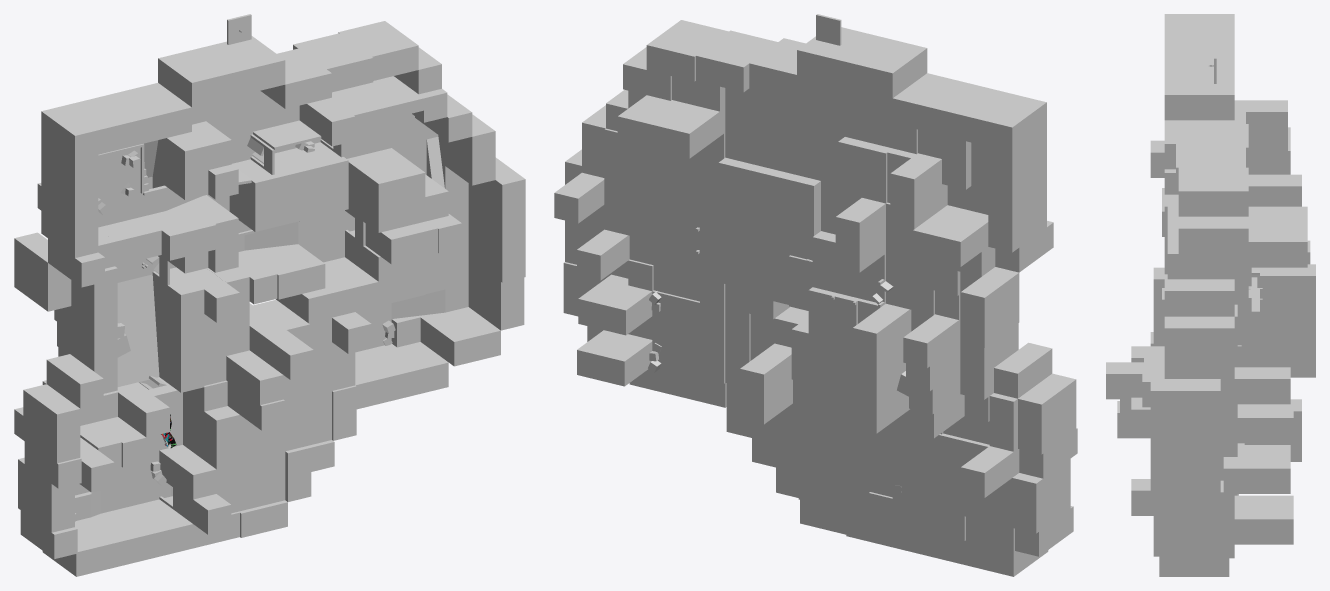
File: dust2cyberiav1.glb
The picture shows the model from 3 angles, left to right: view 1: azimuth 30°, elevation 25°; view 2: azimuth 150°, elevation 25°; view 3: azimuth 270°, elevation 25°; orthographic projection. The views are drawn at different scales.
Visible parts, largest first — view 1: Cube.856, Cube.1305, Cube.1222, Cube.1236, Cube.1221, Cube.1242, Cube.1304, Cube.1048, Cube.1105, Cube.1037, Cube.1163, Cube.954 (+110 smaller); view 2: Cube.1141, Cube.1242, Cube.1222, Cube.1221, Cube.1236, Cube.905, Cube.862, Cube.1223, Cube.1204, Cube.1139, Cube.1166, Cube.1026 (+80 smaller); view 3: Cube.1039, Cube.1040, Cube.1176, Cube.1226, Cube.1227, Cube.1234, Cube.1050, Cube.1026, Cube.1173, Cube.985, Cube.1225, Cube.905 (+49 smaller).
Boxes of the visible parts, x1,y1,x2,y2 form: Cube.856: (129, 274, 159, 382); Cube.1305: (256, 325, 313, 379); Cube.1222: (46, 354, 103, 408); Cube.1236: (158, 52, 215, 107); Cube.1221: (23, 384, 80, 438); Cube.1242: (41, 105, 98, 160); Cube.1304: (226, 350, 283, 404); Cube.1048: (420, 312, 477, 366); Cube.1105: (159, 445, 216, 499); Cube.1037: (347, 153, 401, 208); Cube.1163: (116, 383, 169, 437); Cube.954: (299, 98, 355, 146); Cube.1141: (960, 267, 1019, 322); Cube.1242: (988, 96, 1046, 152); Cube.1222: (994, 342, 1052, 398); Cube.1221: (1018, 373, 1076, 429); Cube.1236: (869, 42, 927, 98); Cube.905: (852, 303, 911, 358); Cube.862: (903, 314, 960, 368); Cube.1223: (665, 106, 723, 158); Cube.1204: (960, 446, 1019, 497); Cube.1139: (937, 211, 988, 266); Cube.1166: (740, 343, 791, 399); Cube.1026: (577, 229, 629, 280); Cube.1039: (1164, 279, 1234, 316); Cube.1040: (1164, 316, 1234, 353); Cube.1176: (1150, 379, 1220, 416); Cube.1226: (1178, 216, 1248, 253); Cube.1227: (1178, 179, 1248, 216); Cube.1234: (1164, 83, 1234, 120); Cube.1050: (1223, 507, 1293, 544); Cube.1026: (1223, 406, 1293, 443); Cube.1173: (1220, 367, 1290, 404); Cube.985: (1223, 457, 1290, 493); Cube.1225: (1237, 230, 1307, 267); Cube.905: (1251, 264, 1315, 301).
Bounding box in the file's own units: 400 × 405 × 150.
5 materials, 5 textured.
